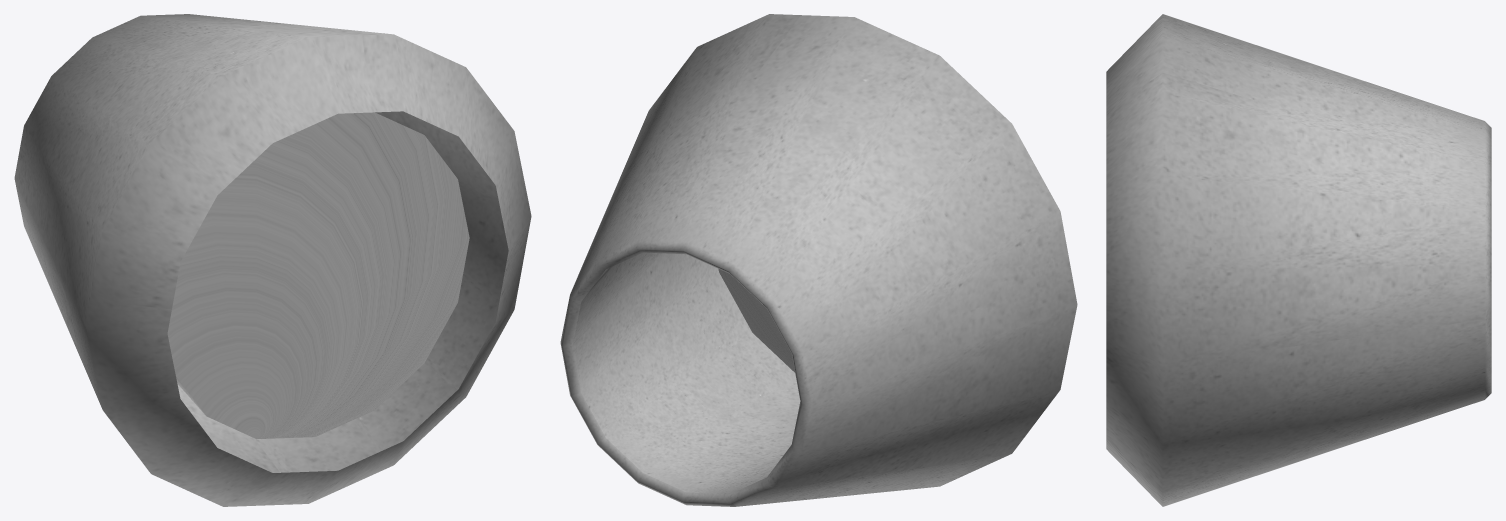
Rendered from vase005.FBX.
The picture shows the model from 3 angles, left to right: view 1: azimuth 30°, elevation 25°; view 2: azimuth 150°, elevation 25°; view 3: azimuth 270°, elevation 25°; orthographic projection. The views are drawn at different scales.
Visible parts, largest first — view 1: vase005; view 2: vase005; view 3: vase005.
Part boxes in pixels (box(x1,y1,x2,y2)): vase005: box(14, 14, 531, 506); vase005: box(560, 14, 1077, 506); vase005: box(1106, 14, 1491, 506).
Size of the model in its own units: 27.57 by 27.57 by 21.54.
